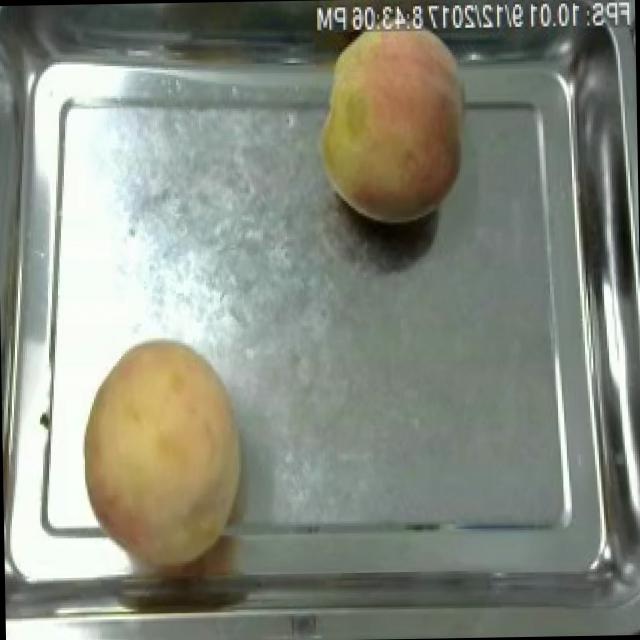Fruit: (69, 333, 252, 572), (304, 12, 472, 234)
